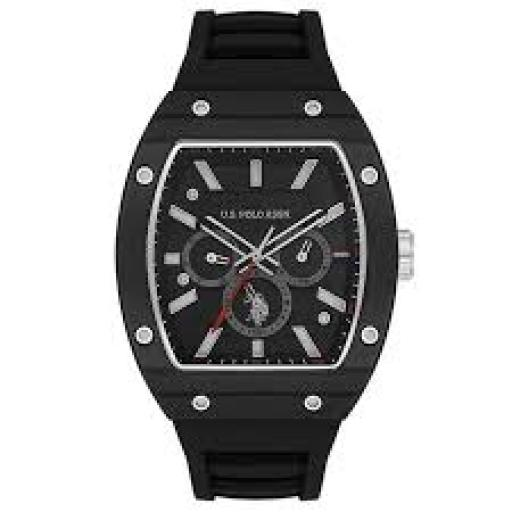KolSaati: (112, 10, 416, 512)
